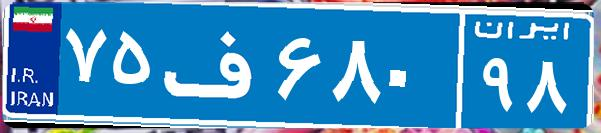0: (385, 28, 445, 110)
5: (110, 28, 158, 105)
6: (273, 28, 330, 110)
7: (57, 26, 110, 107)
8: (330, 28, 385, 110), (525, 38, 570, 115)
9: (475, 38, 525, 113)
ف: (158, 15, 273, 115)
